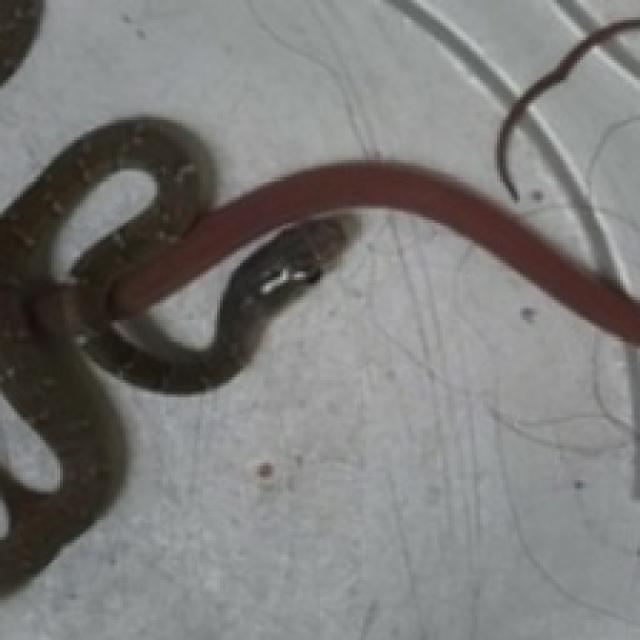reddish rat snake: (0, 118, 640, 592)
